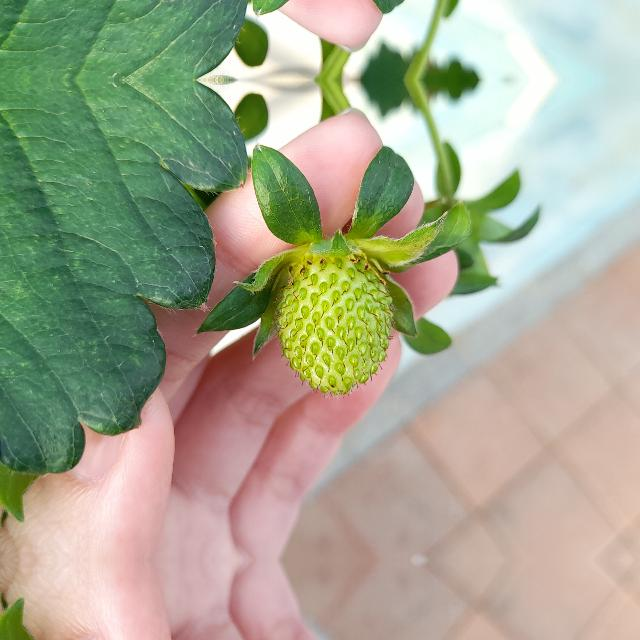Health_25: (272, 256, 398, 400)
